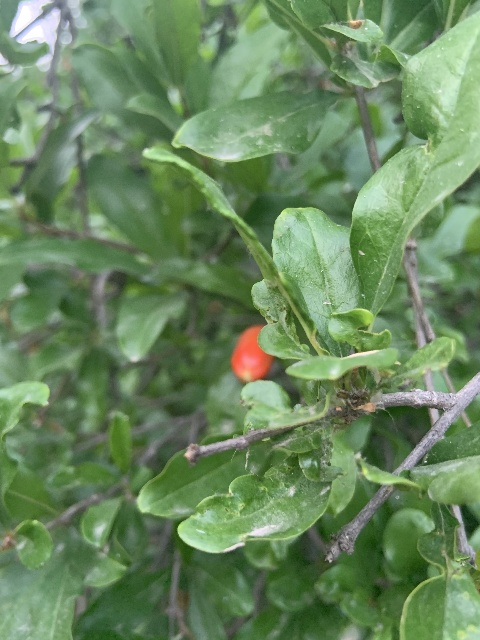bud: (230, 323, 276, 384)
